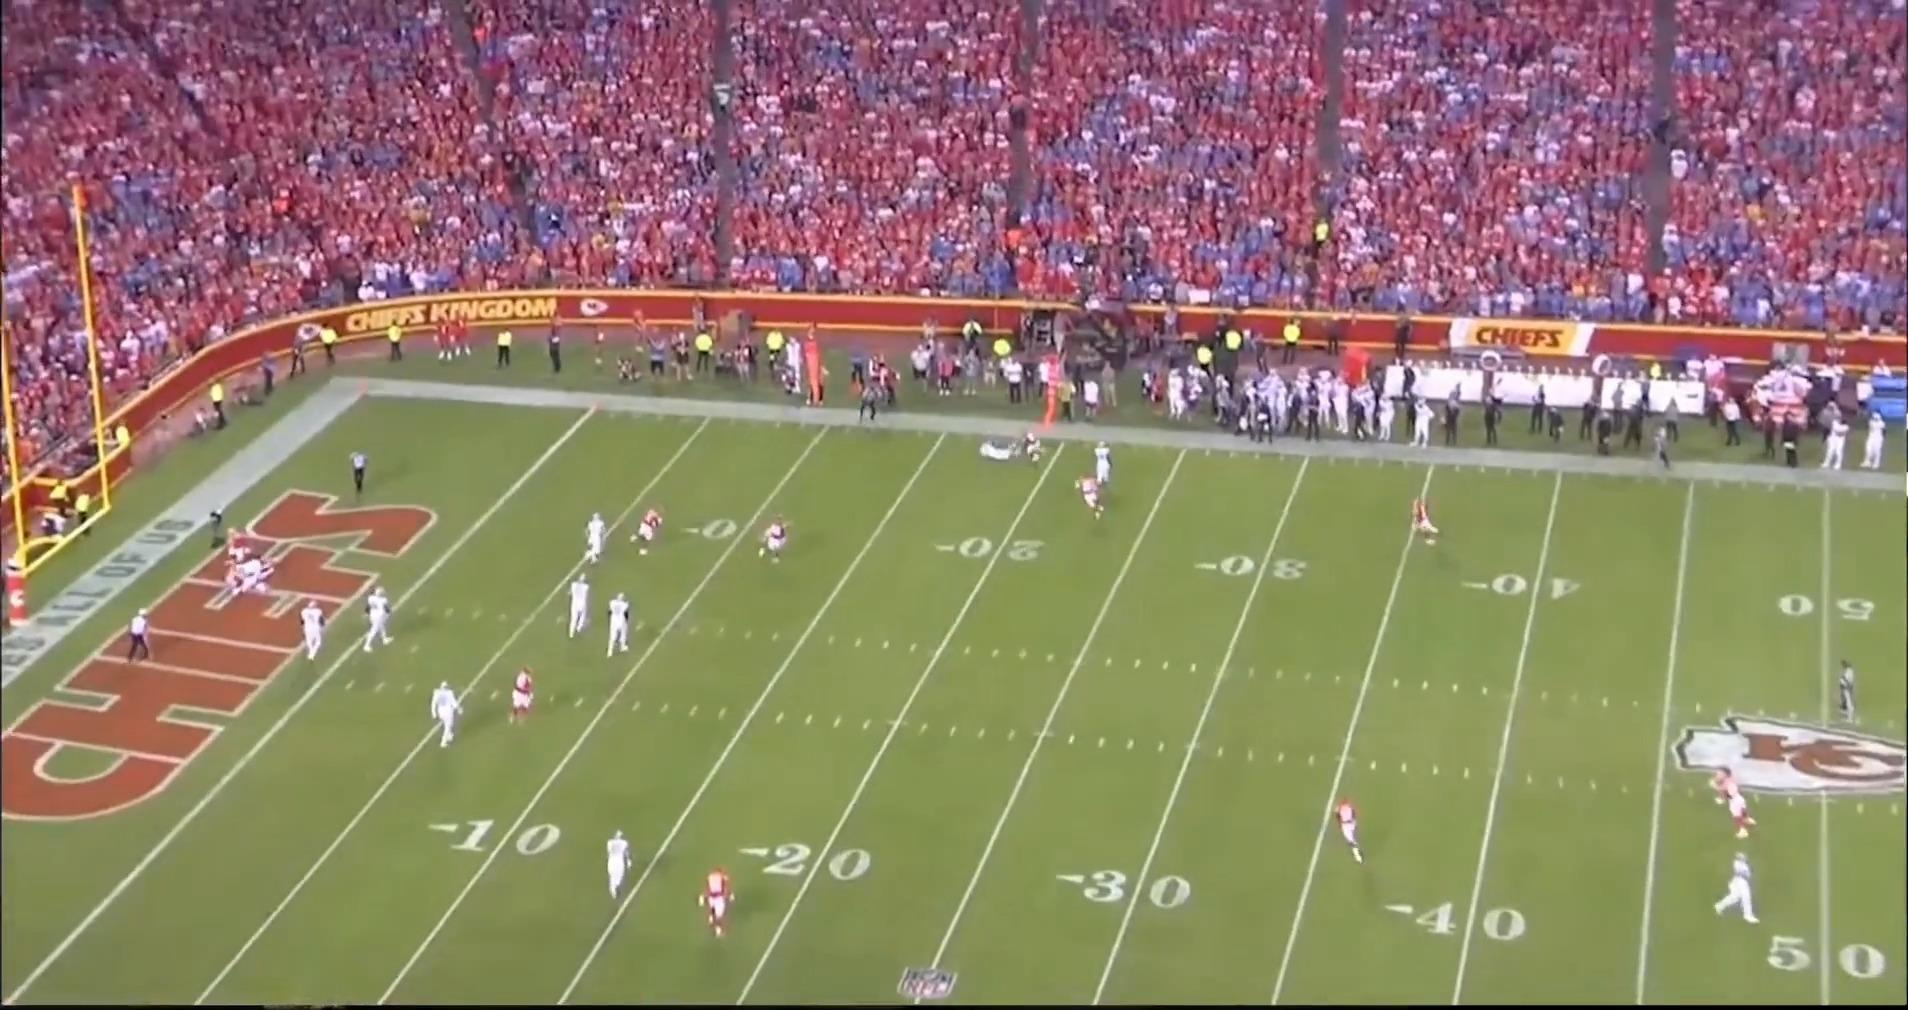player: (1712, 855, 1762, 930), (1710, 768, 1761, 841), (698, 863, 736, 942), (1329, 797, 1367, 866), (431, 678, 466, 749), (358, 583, 393, 654), (605, 827, 635, 905), (298, 603, 332, 666), (628, 508, 665, 560), (603, 591, 632, 657), (569, 573, 598, 639), (508, 665, 538, 728), (586, 511, 618, 570), (1409, 498, 1443, 552), (973, 433, 1022, 467), (756, 516, 787, 566), (1095, 437, 1118, 497), (1072, 475, 1101, 522), (1020, 425, 1049, 467)
ref: (1832, 657, 1863, 725), (124, 607, 153, 667), (1649, 423, 1677, 474), (853, 375, 881, 425), (347, 444, 371, 502)
